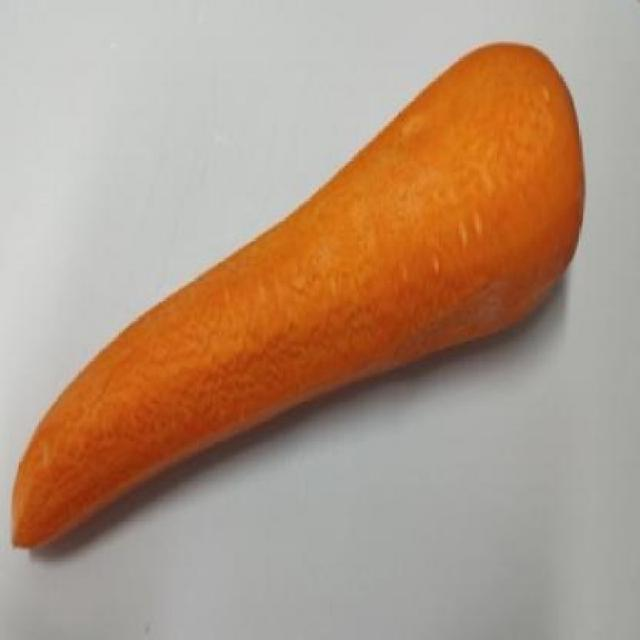Carrot: (12, 44, 584, 547)
